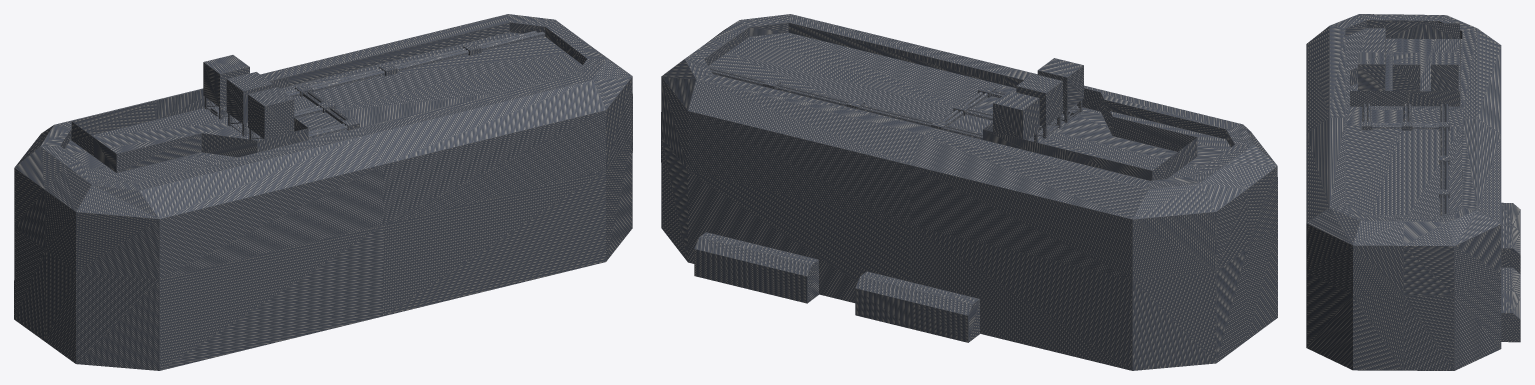
Rendered from Building-TowerC.fbx.
3 renders of one model, left to right at view 1: azimuth 30°, elevation 25°; view 2: azimuth 150°, elevation 25°; view 3: azimuth 270°, elevation 25°, orthographic. The views are drawn at different scales.
Parts seen in each view (by area): view 1: north:polySurface4381; view 2: north:polySurface4381; view 3: north:polySurface4381.
Part boxes in pixels (x1,y1,x2,y2): north:polySurface4381: [14, 14, 632, 370]; north:polySurface4381: [661, 14, 1277, 370]; north:polySurface4381: [1306, 14, 1520, 370].
Bounding box in the file's own units: 6.81 × 2.46 × 2.76.
